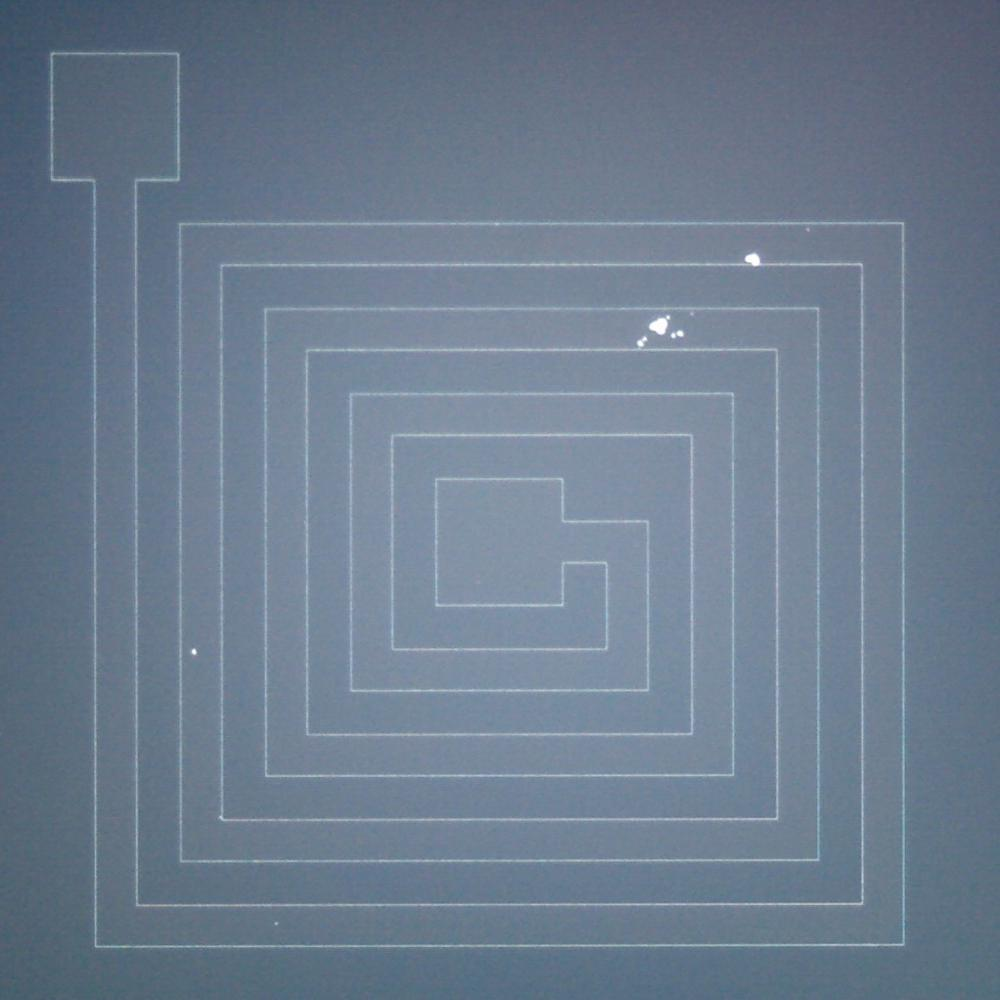dot: (650, 319, 666, 335), (748, 253, 759, 264), (678, 330, 684, 337), (643, 336, 648, 342), (192, 650, 197, 655), (638, 341, 642, 346), (667, 316, 670, 320), (671, 334, 675, 337)
